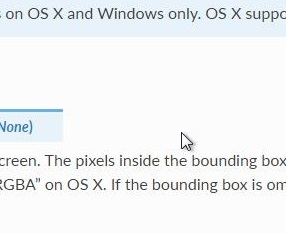cursor: (173, 128, 199, 155)
